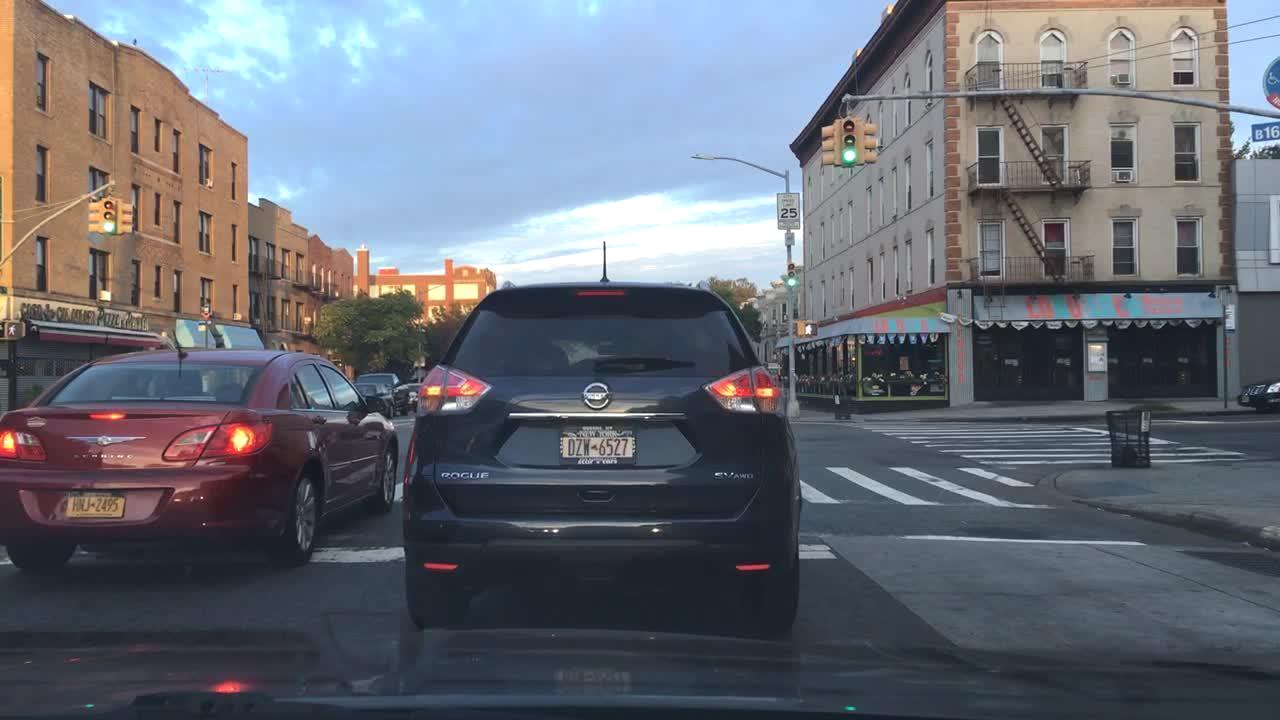Chrysler: (64, 428, 155, 454)
Nissan: (578, 378, 618, 414)
